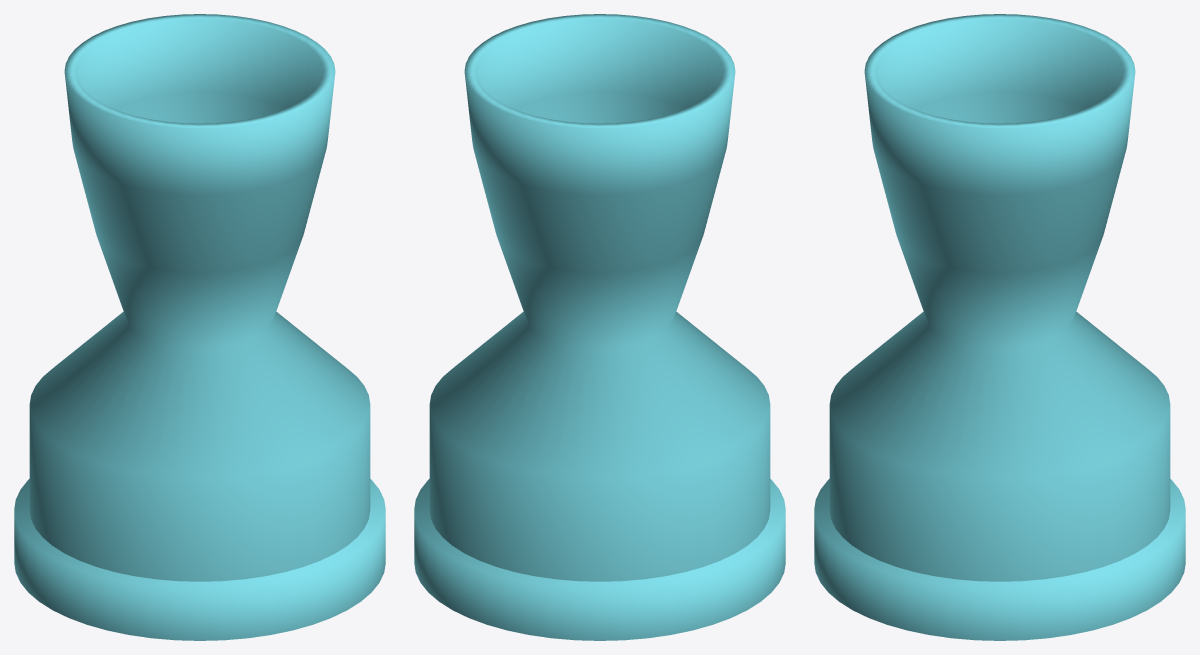
Rendered from supersonic_nozzle.glb.
3 views of the same model, side by side, from view 1: azimuth 30°, elevation 25°; view 2: azimuth 150°, elevation 25°; view 3: azimuth 270°, elevation 25° (orthographic).
Visible parts, largest first — view 1: SupersonicNozzle; view 2: SupersonicNozzle; view 3: SupersonicNozzle.
Part boxes in pixels (x1,y1,x2,y2): SupersonicNozzle: (14, 14, 385, 640); SupersonicNozzle: (414, 14, 785, 640); SupersonicNozzle: (814, 14, 1185, 640).
Bounding box in the file's own units: 0.096 × 0.14 × 0.096.
